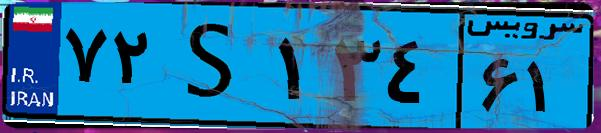1: (270, 28, 330, 110), (525, 38, 570, 115)
2: (110, 28, 158, 98)
3: (330, 28, 385, 110)
4: (385, 28, 445, 110)
6: (475, 38, 525, 113)
7: (57, 26, 110, 100)
S: (158, 12, 270, 120)
